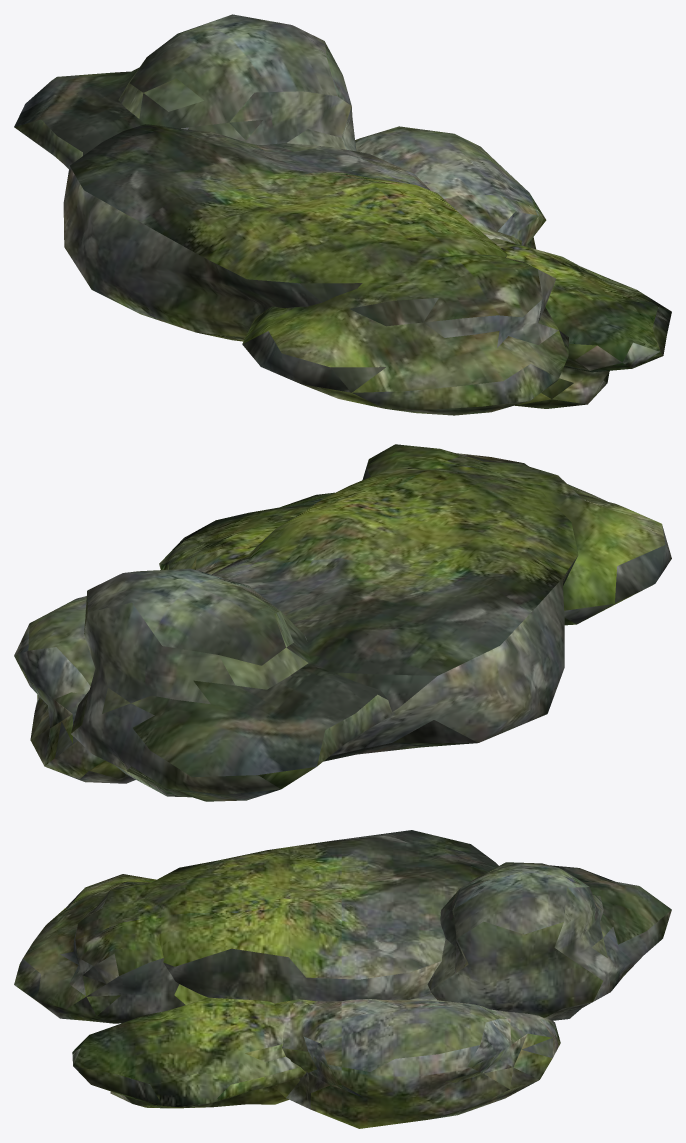
Rendered from rock_bank_ledge.glb.
3 views of the same model, one above another, from view 1: azimuth 30°, elevation 25°; view 2: azimuth 150°, elevation 25°; view 3: azimuth 270°, elevation 25° (orthographic). The views are drawn at different scales.
Visible parts, largest first — view 1: rock_bank_ledge; view 2: rock_bank_ledge; view 3: rock_bank_ledge.
Boxes of the visible parts, box(x1,y1,x2,y2) form: rock_bank_ledge: box(14, 14, 671, 415); rock_bank_ledge: box(14, 444, 671, 801); rock_bank_ledge: box(14, 830, 671, 1128).
Bounding box in the file's own units: 2.31 × 1.1 × 3.46.
1 material, 1 textured.
